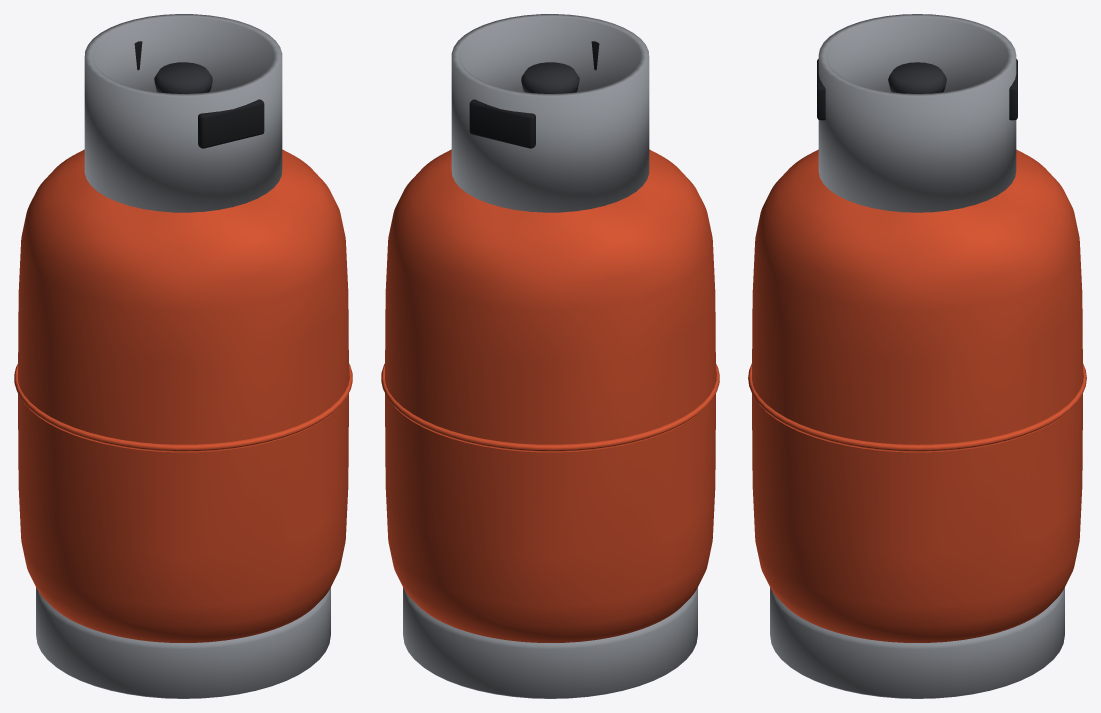
File: prop_garrafa.glb
The picture shows the model from 3 angles, left to right: view 1: azimuth 30°, elevation 25°; view 2: azimuth 150°, elevation 25°; view 3: azimuth 270°, elevation 25°; orthographic projection.
Visible parts, largest first — view 1: prop_garrafa; view 2: prop_garrafa; view 3: prop_garrafa.
Boxes of the visible parts, left/top/right/bottom form: prop_garrafa: left=14, top=14, right=352, bottom=698; prop_garrafa: left=381, top=14, right=719, bottom=698; prop_garrafa: left=748, top=14, right=1086, bottom=698.
Size of the model in its own units: 0.322 by 0.61 by 0.322.
